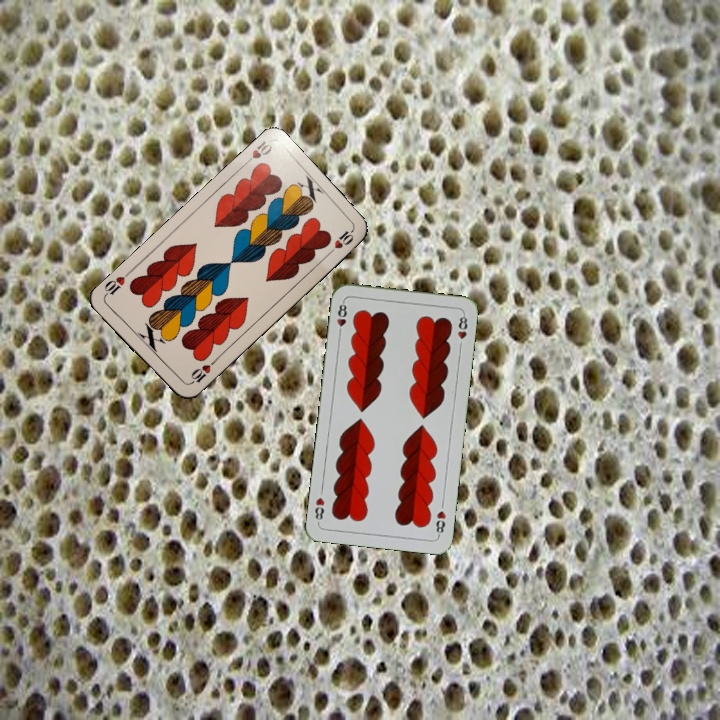H10: (239, 136, 275, 169), (185, 356, 218, 387)
H8: (333, 297, 349, 338), (432, 506, 448, 539)
